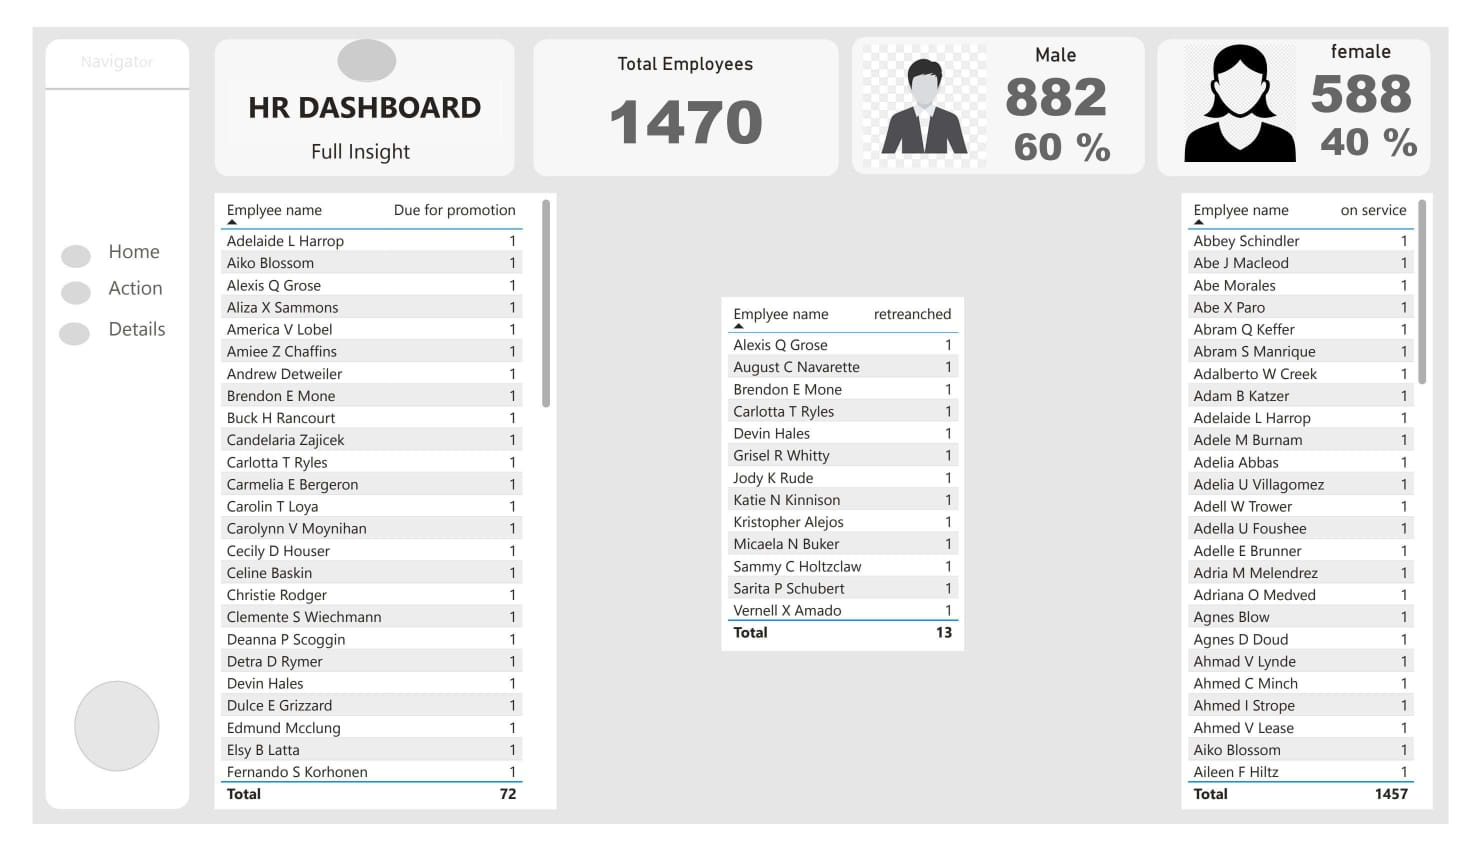

The dashboard page shown, as its layout file describes it:
{"tool":"powerbi","page":{"name":"Action","canvas":[1280,720],"ordinal":1},"visuals":[{"type":"shape","box":[12.1,10.6,130.3,696.8],"z":0},{"type":"shape","box":[452.9,10.6,275.7,124.2],"z":1000},{"type":"shape","box":[740.7,9.1,265.1,124.2],"z":2000},{"type":"shape","box":[1017.3,10.7,246.7,124],"z":3000},{"type":"card","title":"Total Employees","fields":{"Values":["Measure value.Total Emp"]},"box":[474.1,22.7,233.3,100],"z":4000},{"type":"shape","box":[165.1,10.6,271.1,124.2],"z":5000},{"type":"shape","box":[275.7,10.6,53,39.4],"z":6000},{"type":"textbox","box":[246.9,93.9,109.1,36.4],"z":7000},{"type":"card","title":"Male","fields":{"Values":["Measure value.male"]},"box":[861.9,13.6,127.2,72.7],"z":8000},{"type":"card","title":"Male","fields":{"Values":["Measure value.%Male"]},"box":[874,83.3,115.1,48.5],"z":9000},{"type":"card","title":"female","fields":{"Values":["Measure value.female"]},"box":[1137.6,10.6,127.2,72.7],"z":10000},{"type":"card","title":"Male","fields":{"Values":["Measure value.%Female"]},"box":[1152.8,78.8,112.1,48.5],"z":11000},{"type":"image","box":[1017.9,10.6,148.4,116.6],"z":12000},{"type":"image","box":[739.2,10.6,134.8,121.2],"z":13000},{"type":"textbox","box":[177.2,48.5,246.9,54.5],"z":14000},{"type":"tableEx","fields":{"Values":["HR Analytics Data.Emplyee name","Measure value.Due for promotion"]},"box":[165.1,150,309,557.4],"z":15000},{"type":"tableEx","fields":{"Values":["HR Analytics Data.Emplyee name","Measure value.on service"]},"box":[1039.1,150,227.2,557.4],"z":16000},{"type":"tableEx","fields":{"Values":["HR Analytics Data.Emplyee name","Measure value.retreanched"]},"box":[622.6,243.9,219.6,319.6],"z":17000},{"type":"textbox","box":[25.8,13.6,101.5,33.3],"z":18000},{"type":"shape","box":[12.1,36.4,130.3,39.4],"z":19000},{"type":"shape","box":[37.9,590.8,77.3,81.8],"z":20000},{"type":"actionButton","box":[25.8,196.9,27.3,21.2],"z":21000},{"type":"actionButton","box":[25.8,230.2,27.3,21.2],"z":22000},{"type":"actionButton","box":[24.2,266.6,27.3,21.2],"z":23000},{"type":"actionButton","box":[65.1,186.3,77.3,31.8],"z":24000},{"type":"actionButton","box":[65.1,218.1,77.3,33.3],"z":25000},{"type":"actionButton","box":[65.1,256,77.3,31.8],"z":26000}]}

Visuals, with their boxes on the page's 1280x720 design canvas (x1, y1, x2, y2). These are canvas units, not pixel positions in the 1483x847 screenshot, which may show the page scaled, cropped or inside an application window:
shape: crop(12, 11, 142, 707)
shape: crop(453, 11, 729, 135)
shape: crop(741, 9, 1006, 133)
shape: crop(1017, 11, 1264, 135)
"Total Employees" card: crop(474, 23, 707, 123)
shape: crop(165, 11, 436, 135)
shape: crop(276, 11, 329, 50)
textbox: crop(247, 94, 356, 130)
"Male" card: crop(862, 14, 989, 86)
"Male" card: crop(874, 83, 989, 132)
"female" card: crop(1138, 11, 1265, 83)
"Male" card: crop(1153, 79, 1265, 127)
image: crop(1018, 11, 1166, 127)
image: crop(739, 11, 874, 132)
textbox: crop(177, 48, 424, 103)
tableEx - HR Analytics Data.Emplyee name x Measure value.Due for promotion: crop(165, 150, 474, 707)
tableEx - HR Analytics Data.Emplyee name x Measure value.on service: crop(1039, 150, 1266, 707)
tableEx - HR Analytics Data.Emplyee name x Measure value.retreanched: crop(623, 244, 842, 564)
textbox: crop(26, 14, 127, 47)
shape: crop(12, 36, 142, 76)
shape: crop(38, 591, 115, 673)
actionButton: crop(26, 197, 53, 218)
actionButton: crop(26, 230, 53, 251)
actionButton: crop(24, 267, 52, 288)
actionButton: crop(65, 186, 142, 218)
actionButton: crop(65, 218, 142, 251)
actionButton: crop(65, 256, 142, 288)
